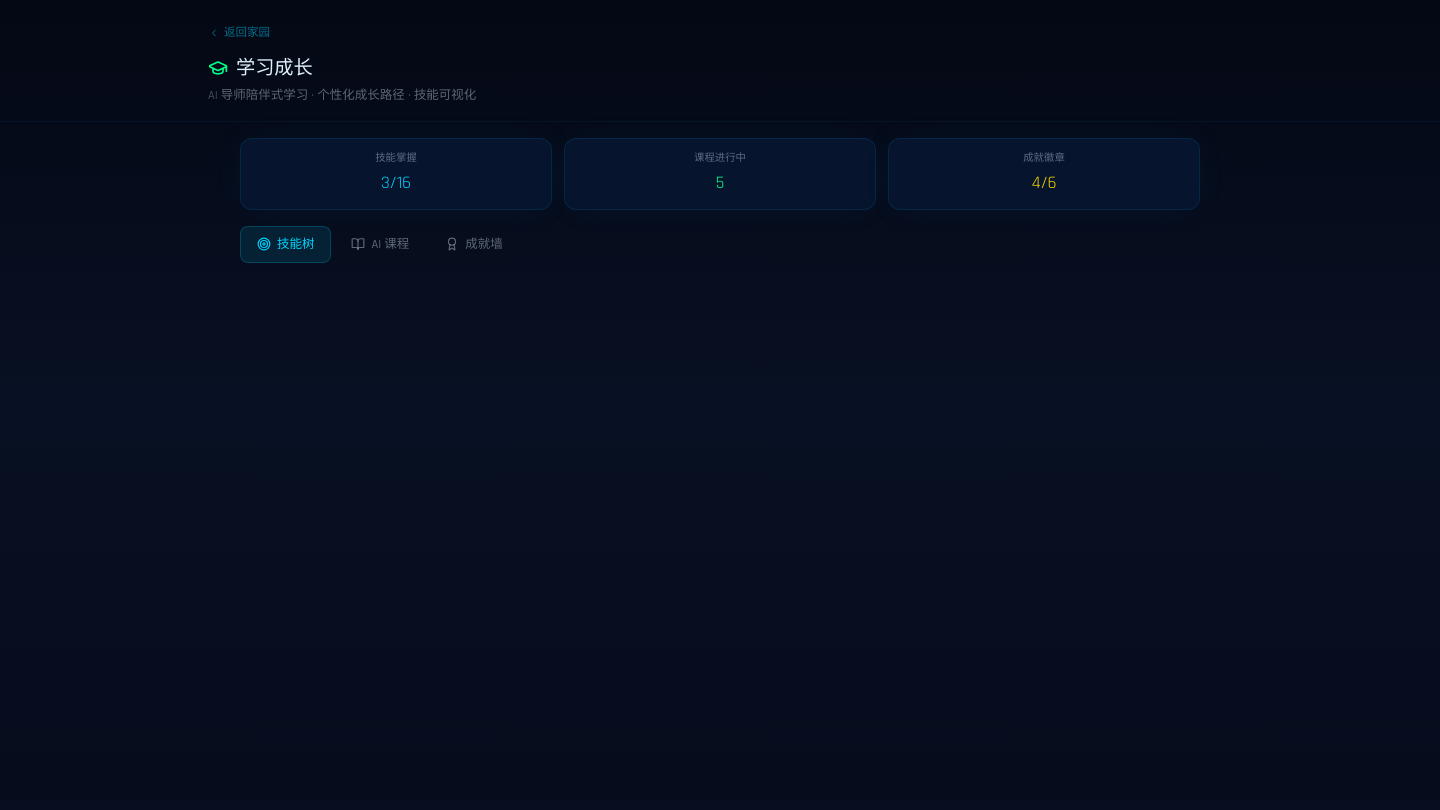
Test: ai-family/FamilyLearn › 切换 AI 课程 tab 应渲染课程列表并互斥技能树
Click the button "AI 课程" at (380, 244), box [335, 226, 425, 262]
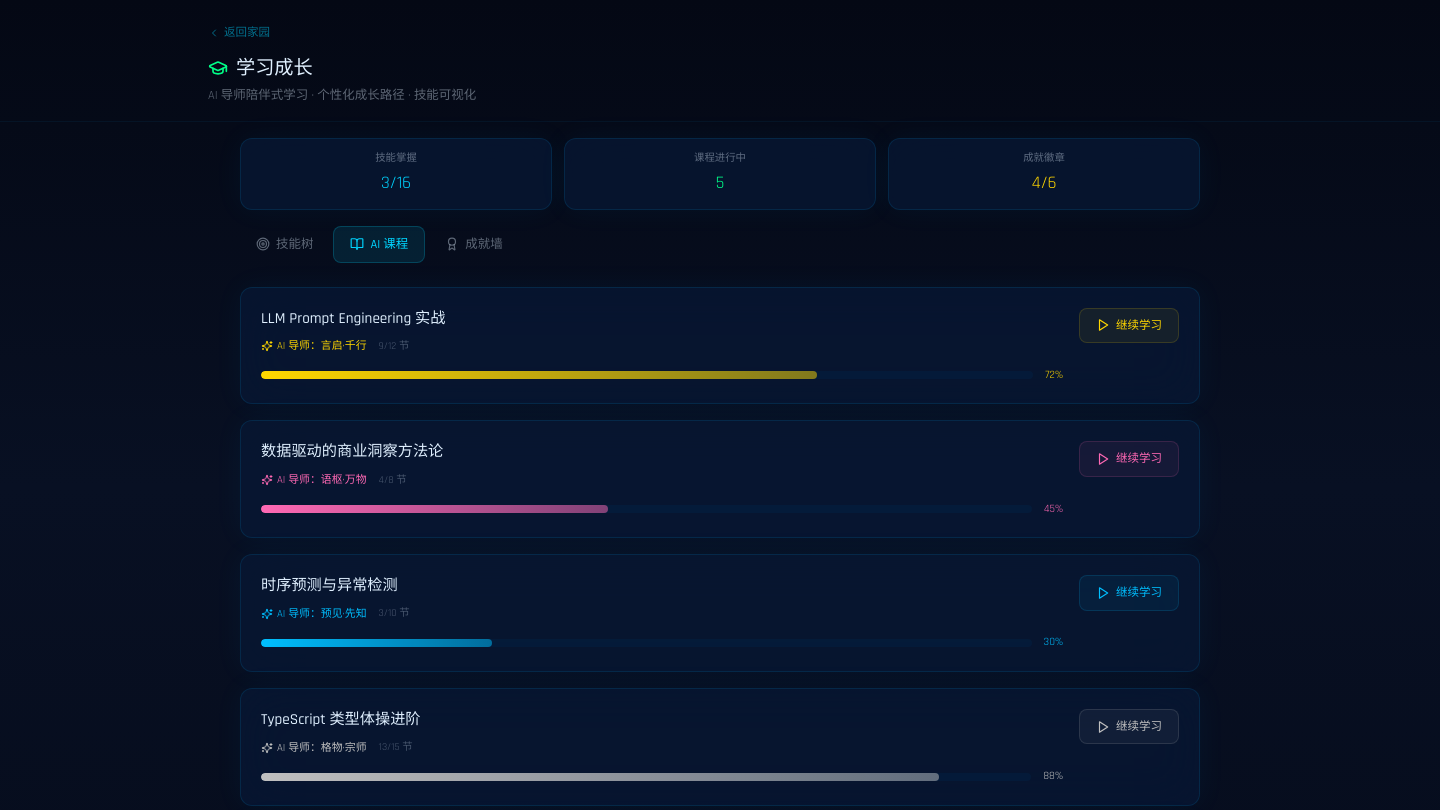
Expected: the heading "LLM Prompt Engineering 实战" is shown, [261, 308, 445, 328]
Expected: the heading "数据驱动的商业洞察方法论" is shown, [261, 442, 443, 461]
Expected: the heading "TypeScript 类型体操进阶" is shown, [261, 710, 420, 729]
